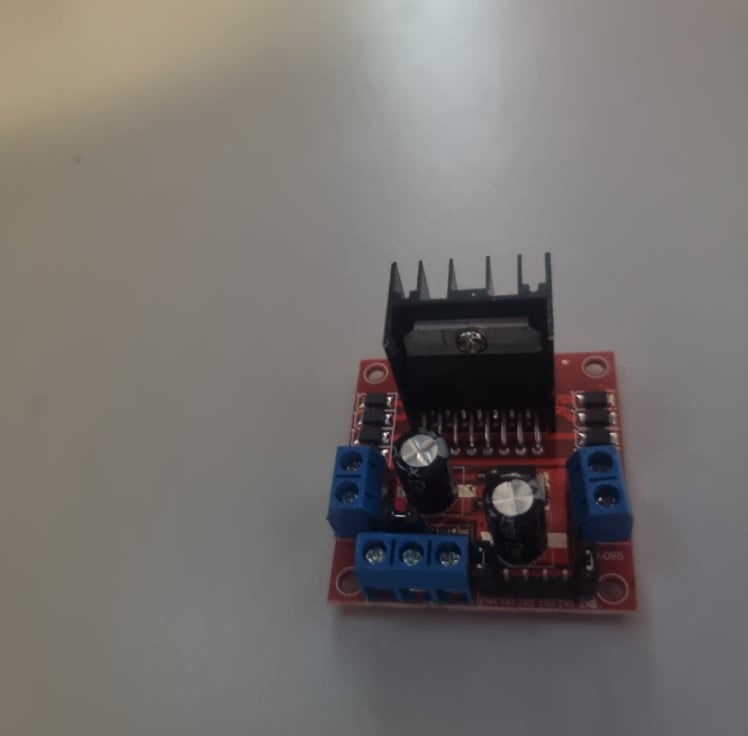MOTOR: (326, 251, 636, 613)
